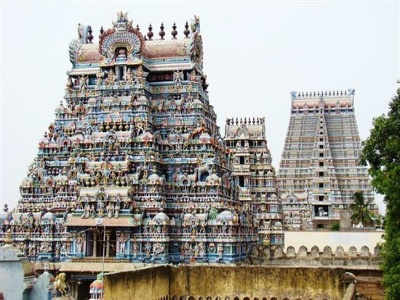gopura: (18, 51, 235, 251), (267, 99, 380, 223)
